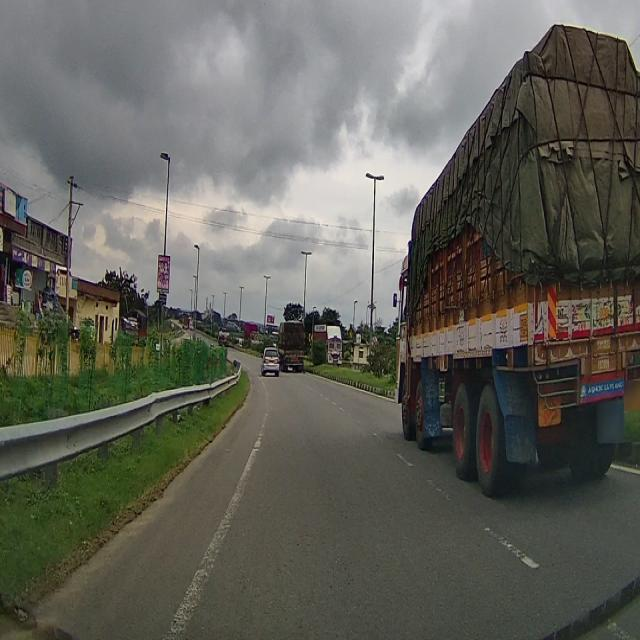truck ahead at: (392, 16, 640, 503)
